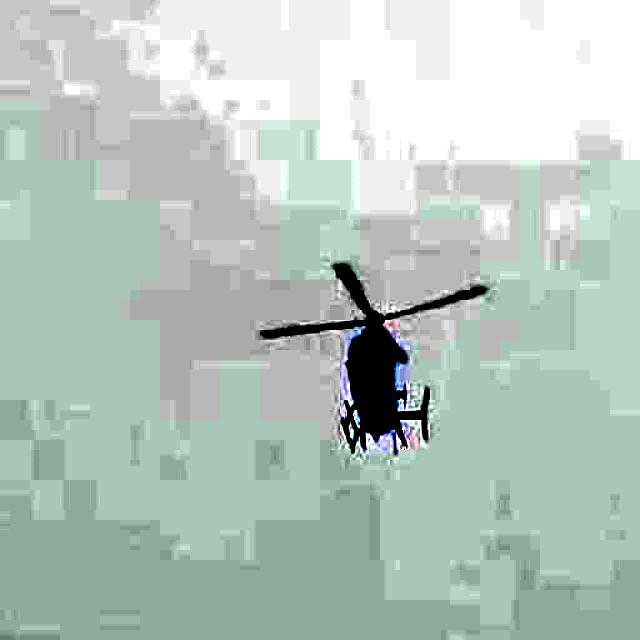drone: (252, 232, 496, 469)
